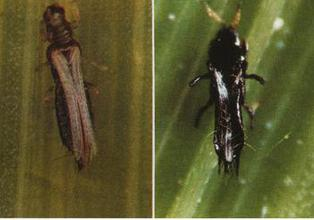pest: (44, 4, 99, 168), (208, 16, 249, 177)
